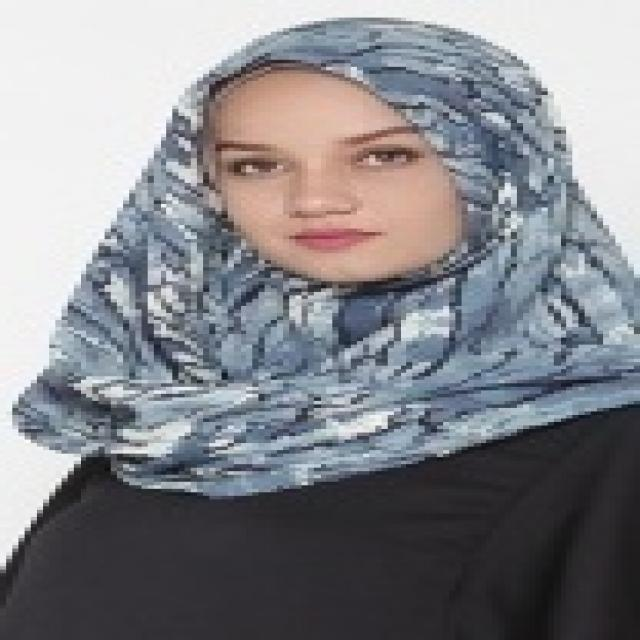head: (172, 17, 589, 285)
